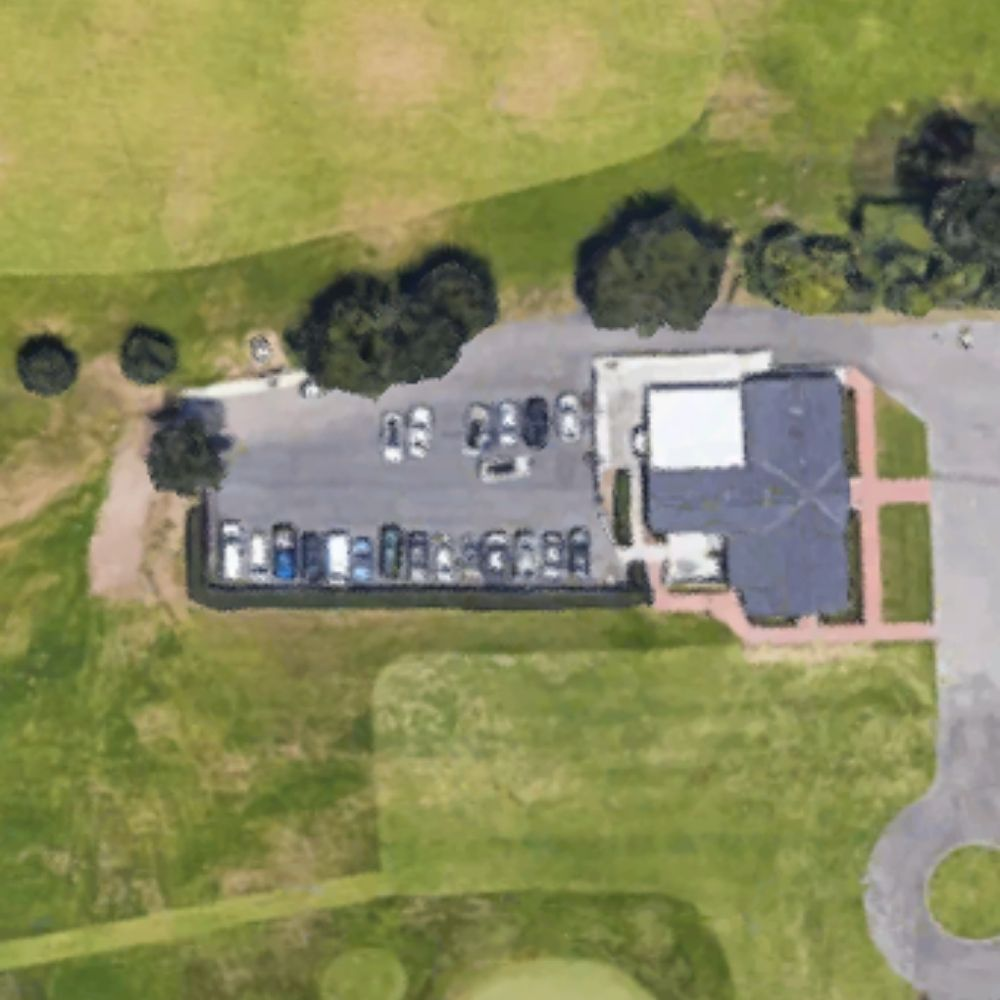parking: (210, 400, 600, 580)
